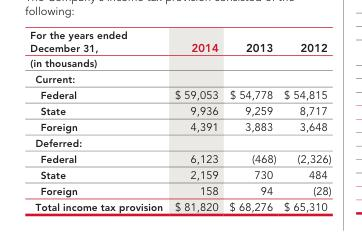table: (29, 28, 330, 213)
table column: (29, 28, 168, 213), (223, 28, 279, 213), (168, 28, 223, 213), (279, 28, 330, 213)
table column header: (29, 28, 330, 54)
table projected row header: (29, 54, 330, 70), (29, 70, 330, 86), (29, 135, 330, 150)
table row: (29, 28, 330, 54), (29, 118, 330, 135), (29, 54, 330, 70), (29, 70, 330, 86), (29, 86, 330, 102), (29, 102, 330, 118), (29, 150, 330, 166), (29, 166, 330, 182), (29, 182, 330, 198), (29, 135, 330, 150), (29, 198, 330, 213)
